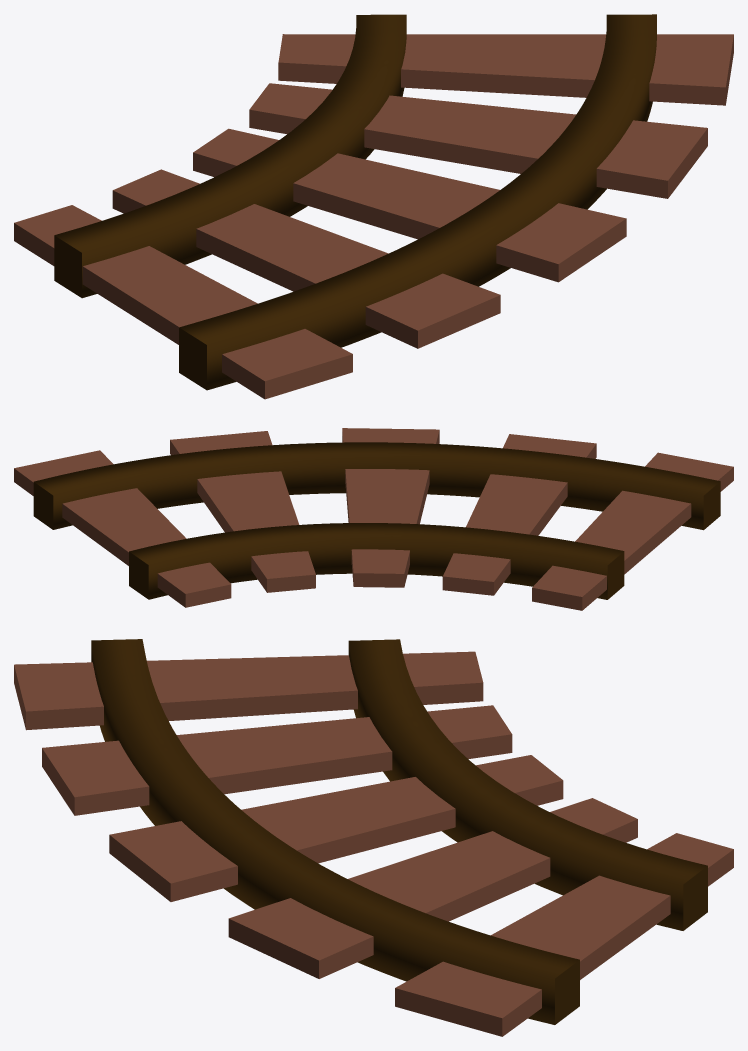
File: Rails_turn.fbx
3 renders of one model, top to bottom at view 1: azimuth 30°, elevation 25°; view 2: azimuth 150°, elevation 25°; view 3: azimuth 270°, elevation 25°, orthographic. The views are drawn at different scales.
Visible parts, largest first — view 1: Planks, Rails; view 2: Rails, Planks; view 3: Planks, Rails.
Part boxes in pixels (x1,y1,x2,y2): Planks: (14, 34, 733, 399); Rails: (54, 14, 656, 390); Rails: (33, 442, 720, 599); Planks: (14, 428, 733, 610); Planks: (14, 651, 733, 1036); Rails: (91, 639, 707, 1024).
Size of the model in its own units: 169 by 10 by 140.
